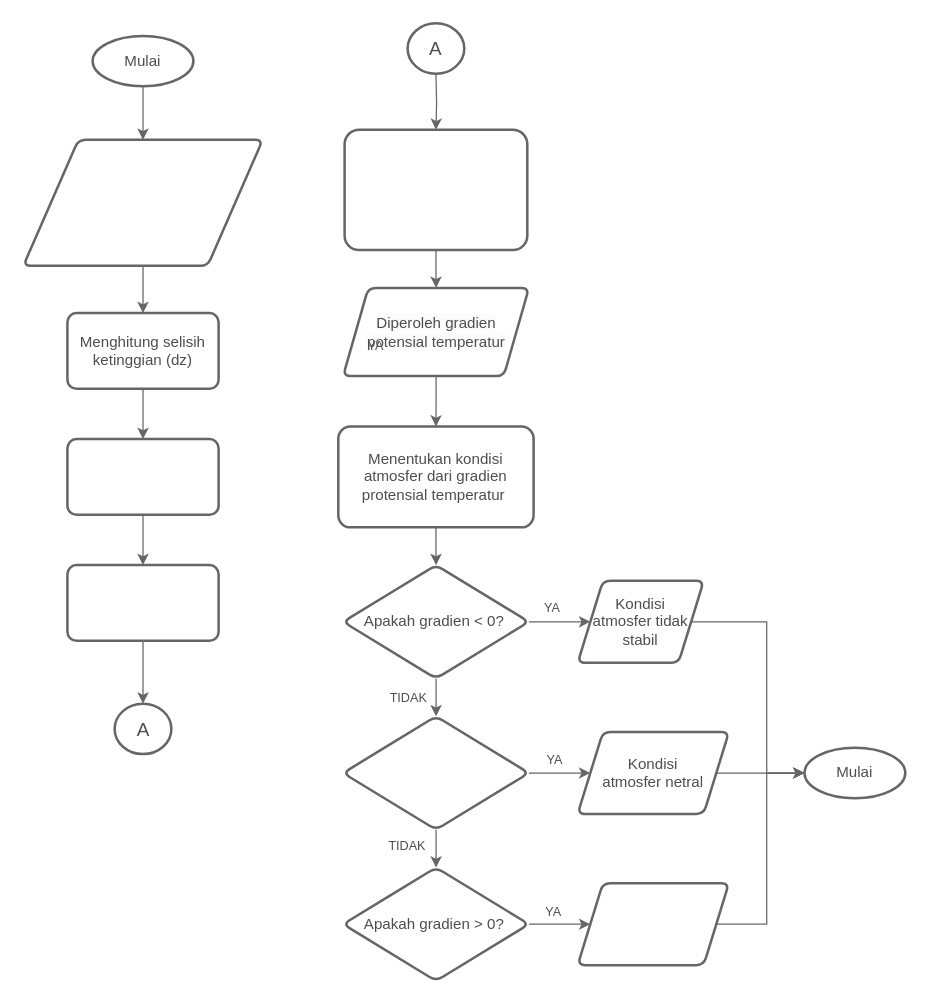
Some shapes in this 927 by 1003 pixel diagram are drawn without their labels. The box of each missing label's shape, as (x1, y1, x2, y2) in pixels:
Apakah gradien = 0?: (341, 714, 530, 830)
Kondisi atmosfer stabil: (576, 881, 730, 966)
Memasukkan nilai temperatur pada h = 100 mdpl dan h = 1000 mdpl: (21, 138, 263, 266)
mencari gradien dT/dz: (66, 563, 219, 641)
Menentukan gradien potensial temperatur dengan menambah dT/dz dengan dry: (343, 128, 528, 251)
Menghitung selisih temperatur (dT): (66, 437, 219, 515)
